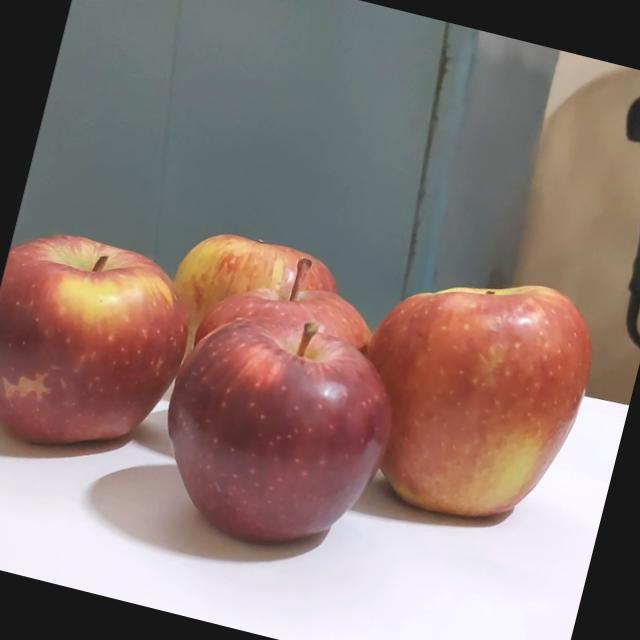apple: (363, 266, 622, 544), (178, 308, 436, 574), (0, 226, 240, 487), (198, 249, 411, 492), (164, 222, 356, 430)
